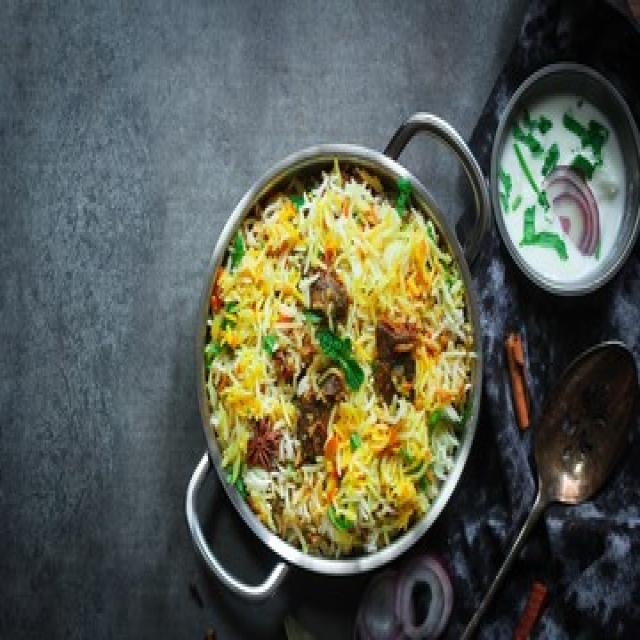BIRIYANI: (201, 155, 478, 563)
